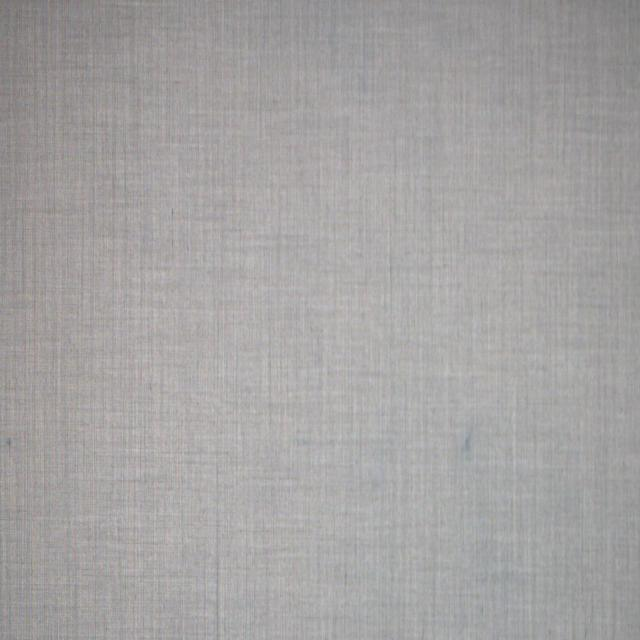dirty: (466, 439, 469, 452), (8, 440, 12, 449)
